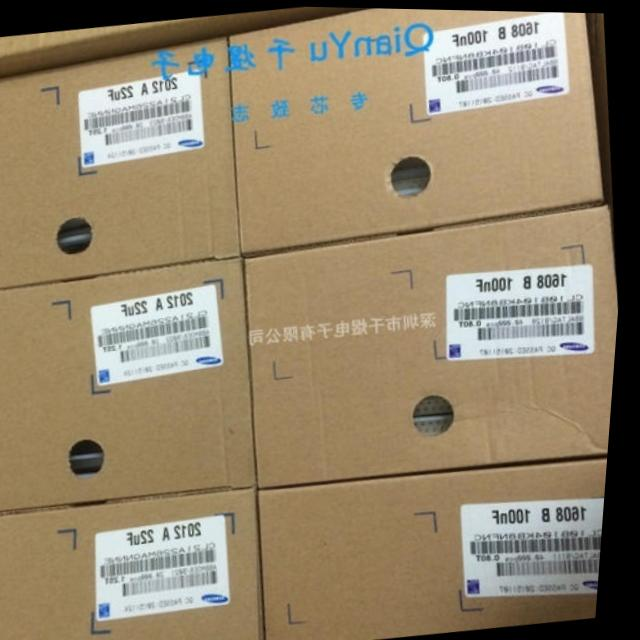box: (244, 202, 621, 486), (229, 6, 607, 250), (0, 257, 265, 511), (265, 453, 614, 640), (0, 39, 245, 288), (0, 487, 274, 640), (0, 5, 355, 73)
